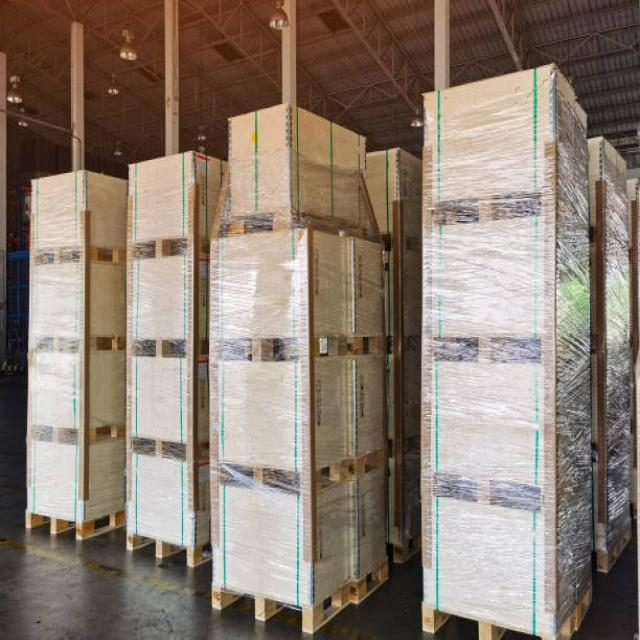Wooden-Pallets: (198, 569, 357, 637), (13, 504, 123, 554), (117, 522, 196, 584)
